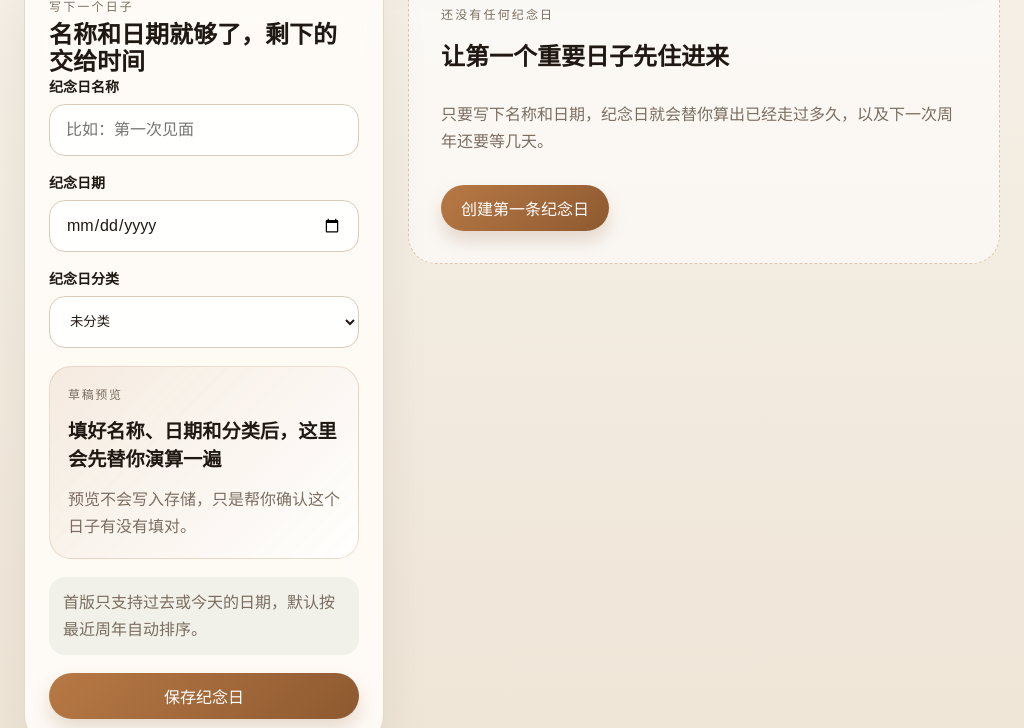
Test: AnniversaryForm › 名称为空时阻止提交并显示错误
The image size is (1024, 728).
(page scrolled)
Click the button "保存纪念日": {"x": 204, "y": 696} [49,673,359,719]
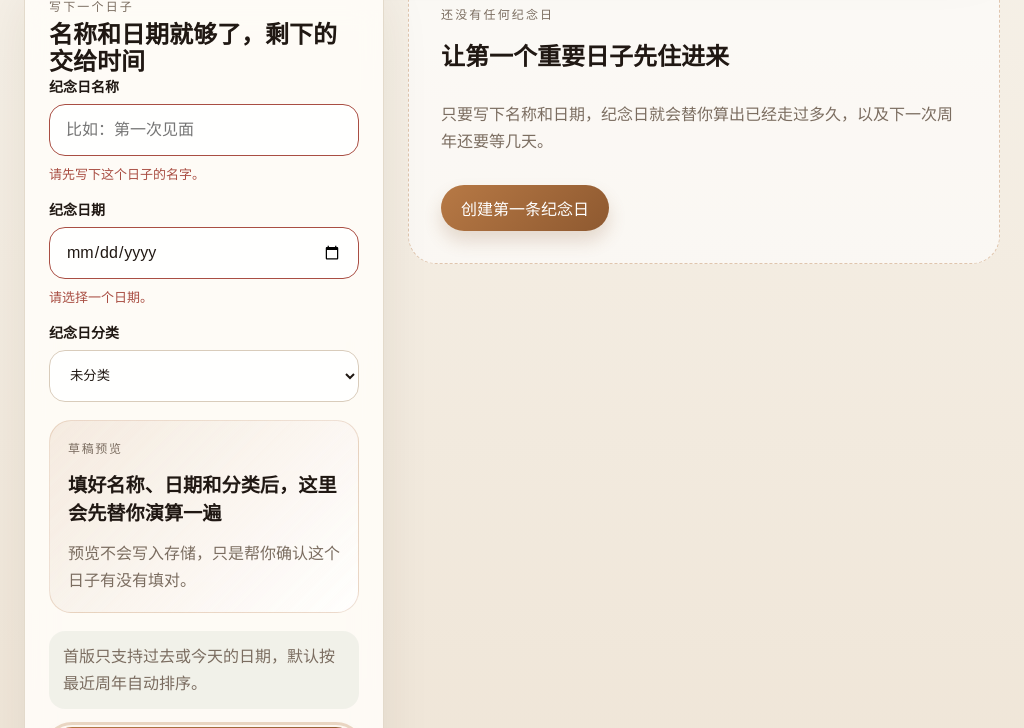
expect the text "请先写下这个日子的名字。" is shown: met, box [49,166,205,182]
